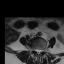CCS_normal: (37, 48, 39, 56)
LFS_normal: (41, 48, 43, 53)
LLS_normal: (39, 48, 41, 54)
RFS_normal: (33, 46, 35, 52)
RLS_normal: (35, 47, 37, 53)
